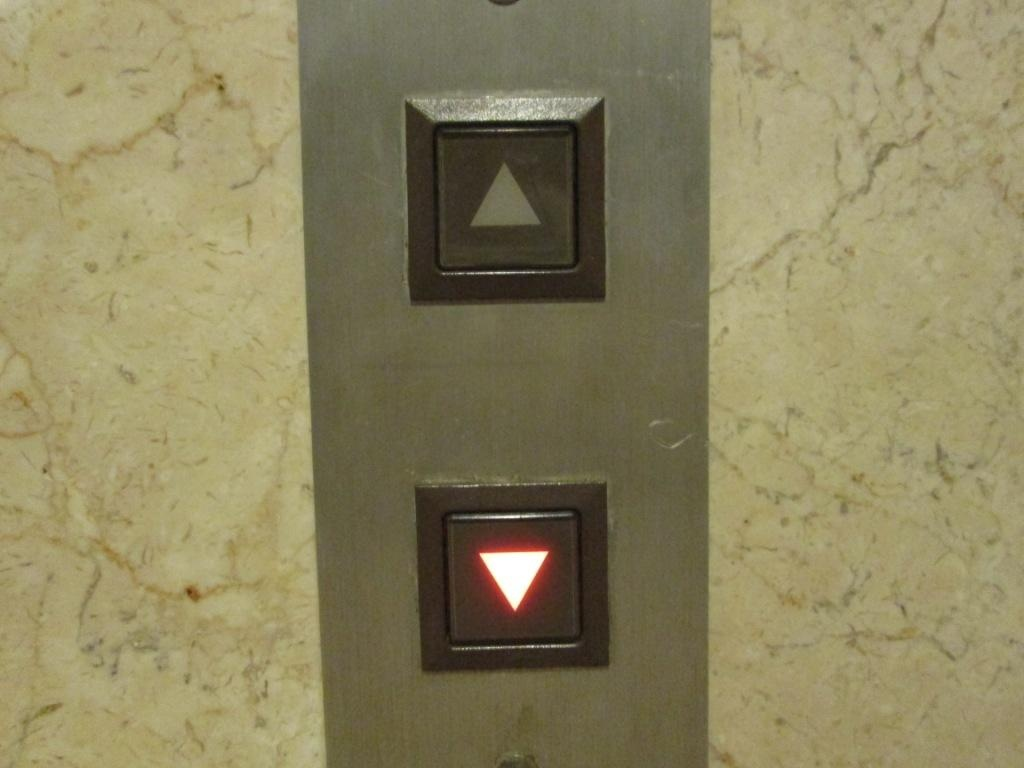down: (411, 478, 615, 677)
up: (398, 90, 611, 307)
